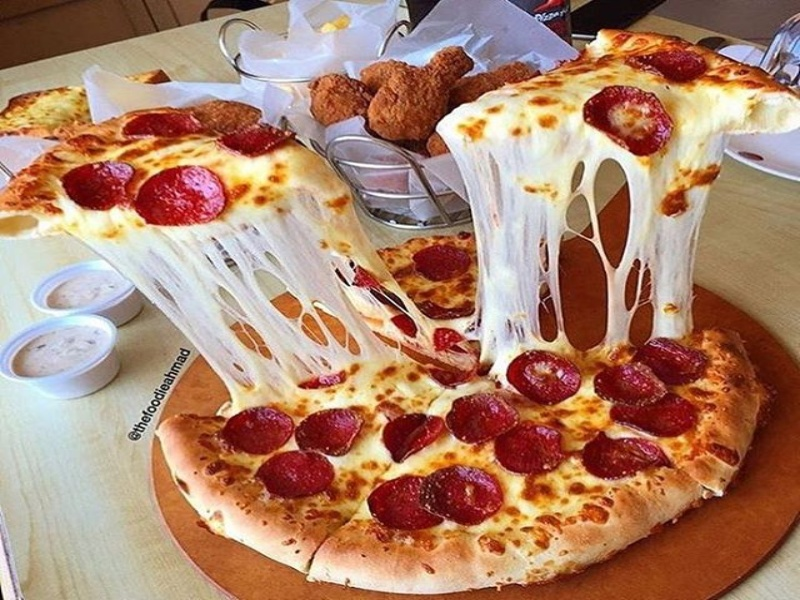peperoni: (583, 79, 672, 159), (575, 426, 673, 490), (135, 164, 227, 226), (421, 465, 503, 532), (366, 474, 448, 533), (504, 348, 583, 405), (252, 450, 335, 501), (59, 161, 136, 214), (294, 406, 363, 463), (493, 423, 564, 476), (224, 405, 294, 456), (446, 393, 517, 443), (380, 411, 448, 460), (625, 48, 708, 81)
